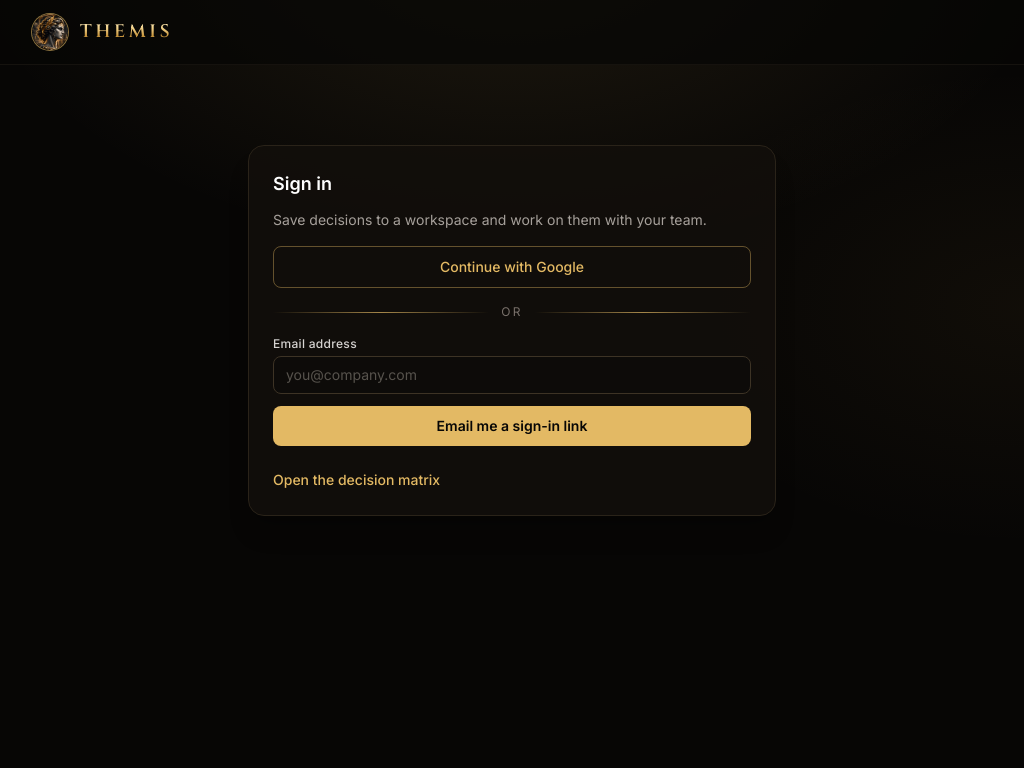
Test case: /signin (configured) › magic link: a server error (rate limit) renders a readable message
In the field labelled "Email address": (512, 375) [273, 356, 751, 394], type "a@example.com"
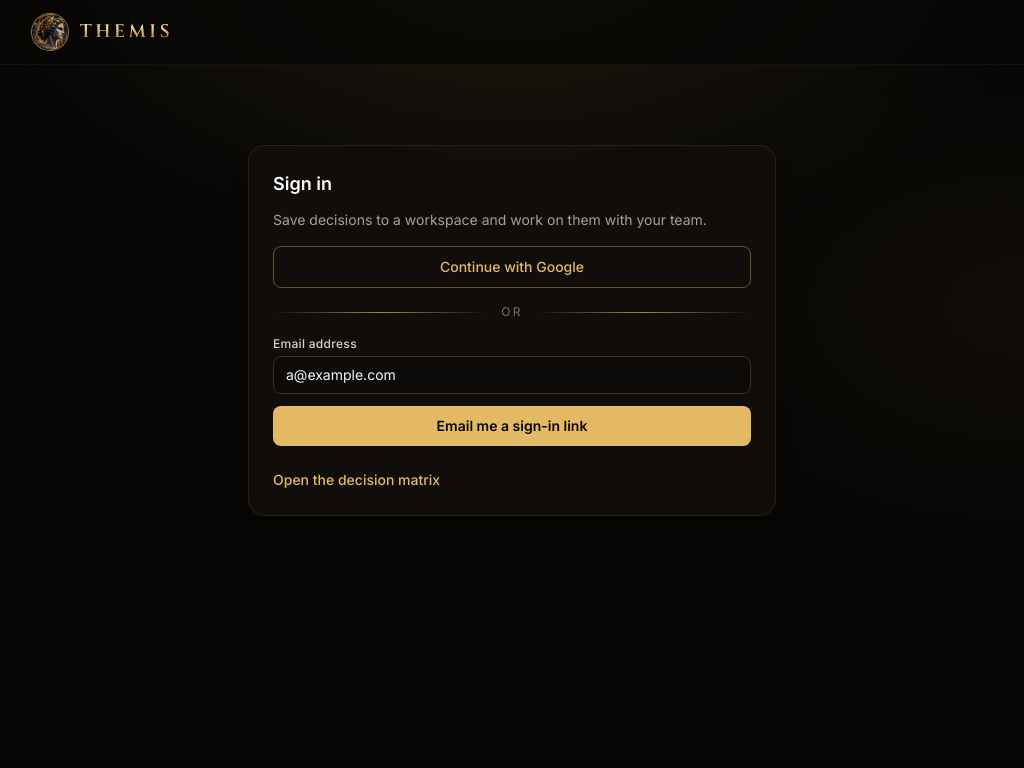
Click the button "Email me a sign-in link": (512, 426) [273, 406, 751, 446]
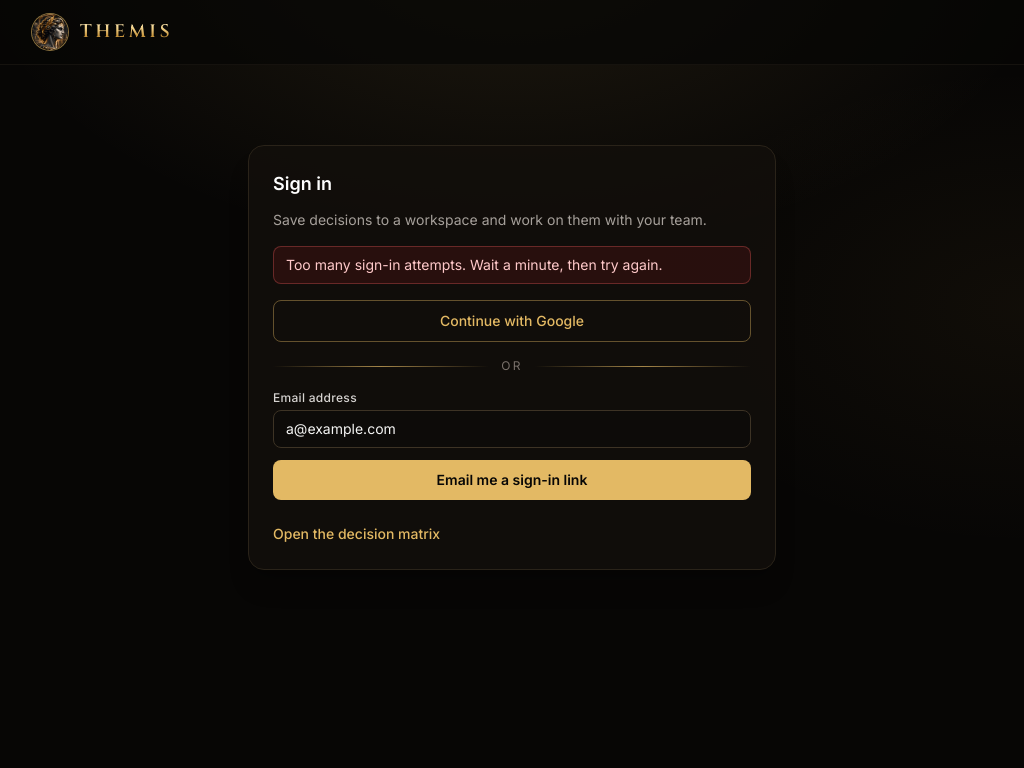
Expected: the heading reads "Sign in", [273, 173, 332, 194]
Result: the message shows "Too many sign-in attempts" at [286, 256, 663, 273]
